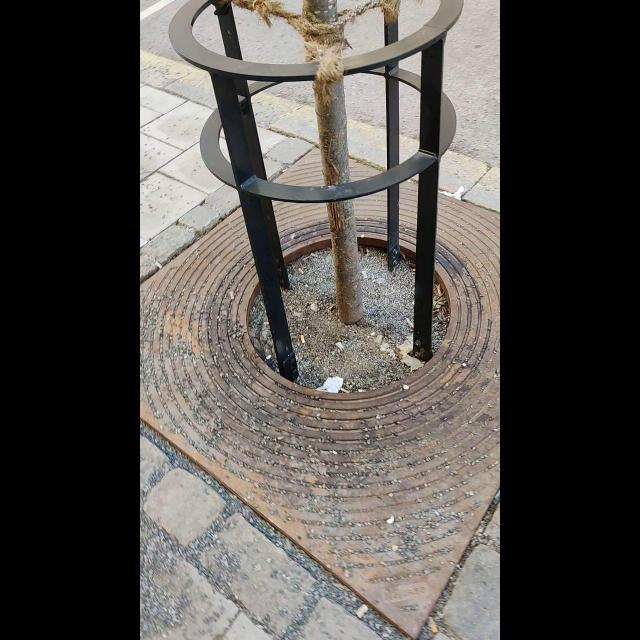cigarette: (228, 290, 236, 301), (340, 388, 350, 396), (406, 318, 414, 328), (436, 285, 442, 298), (155, 260, 162, 270), (337, 342, 344, 351), (300, 334, 306, 344), (298, 266, 304, 276), (362, 271, 368, 278), (358, 388, 365, 393)
